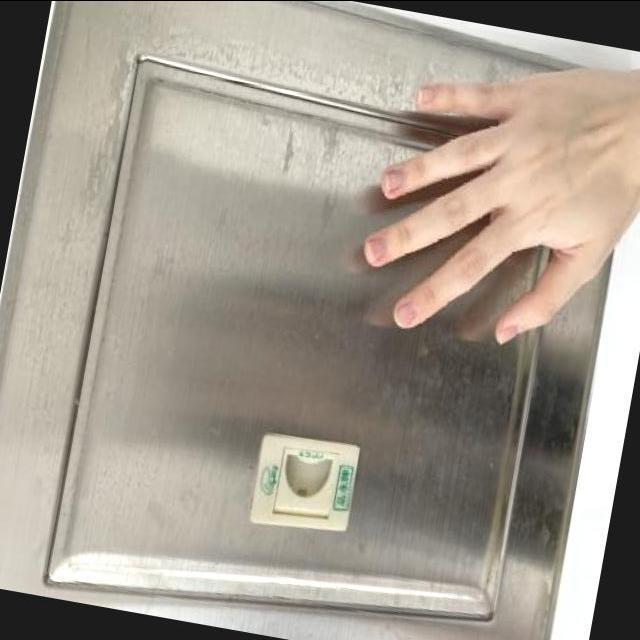hand: (329, 13, 640, 391)
